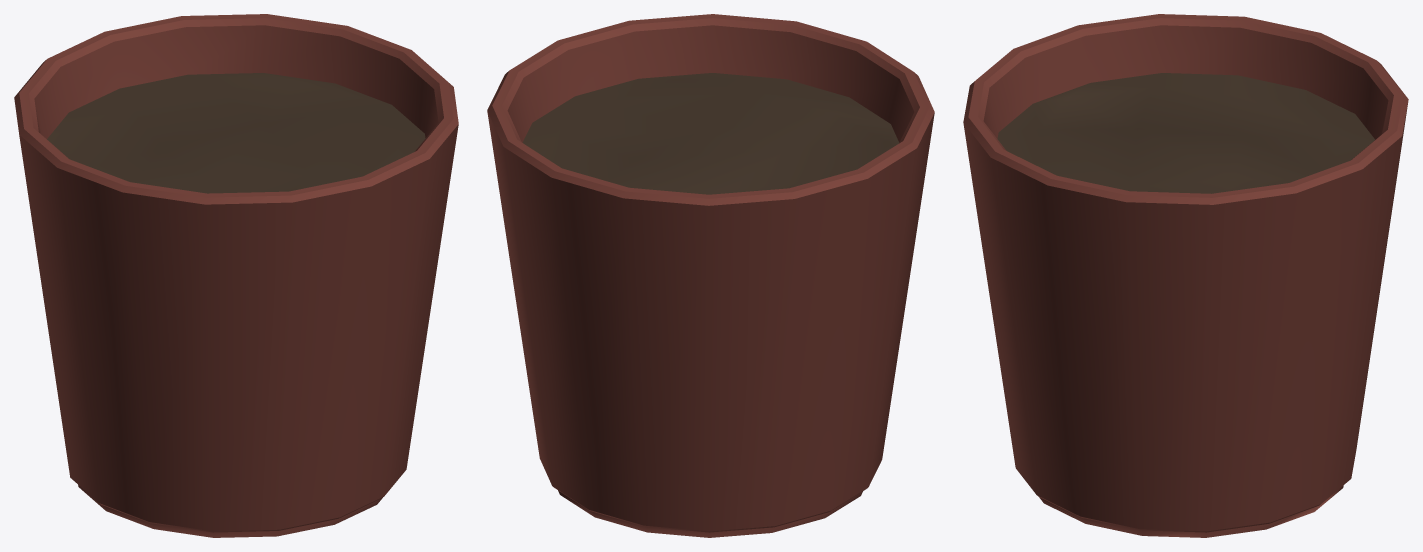
Rendered from RedPotL.glb.
3 views of the same model, side by side, from view 1: azimuth 30°, elevation 25°; view 2: azimuth 150°, elevation 25°; view 3: azimuth 270°, elevation 25° (orthographic).
Parts seen in each view (by area): view 1: Red Pot L; view 2: Red Pot L; view 3: Red Pot L.
Part boxes in pixels (x1=…): Red Pot L: x1=14, y1=14, x2=458, y2=537; Red Pot L: x1=487, y1=14, x2=934, y2=537; Red Pot L: x1=963, y1=14, x2=1408, y2=537.
Bounding box in the file's own units: 0.3275 × 0.295 × 0.3275.
Materials: 1 (1 with a texture image).
